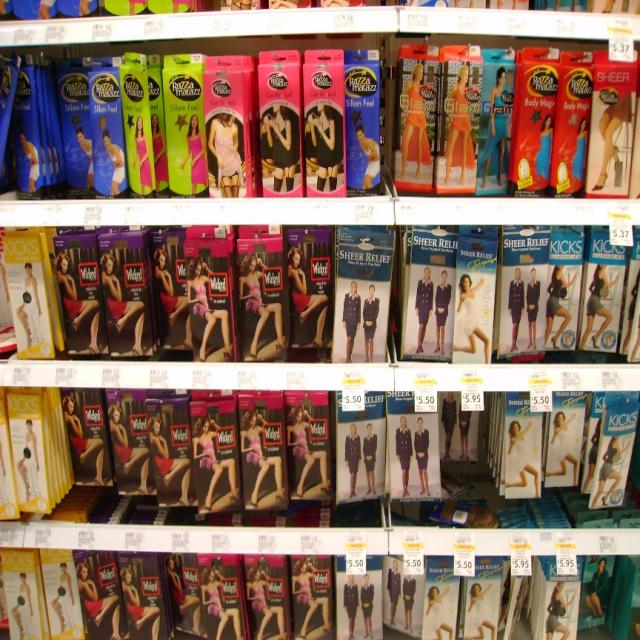q67: (199, 50, 258, 200)
